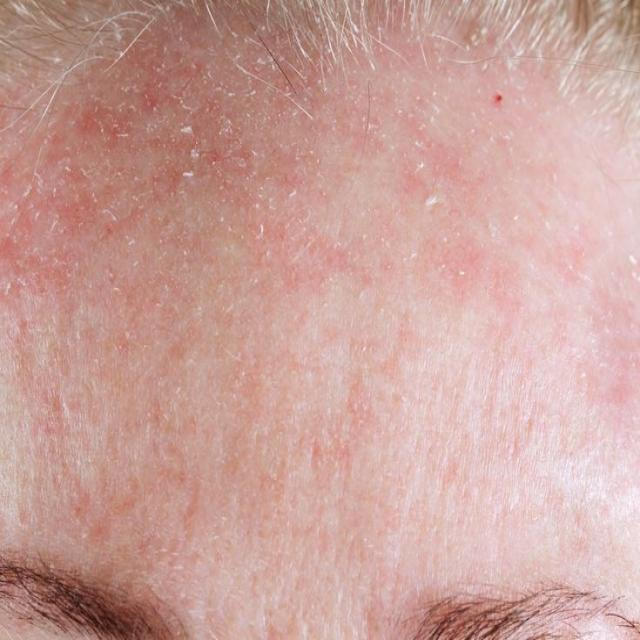Dry-Skin: (324, 140, 384, 280), (163, 88, 247, 179), (442, 194, 524, 277), (85, 327, 169, 396), (216, 244, 304, 305), (26, 396, 65, 478), (108, 237, 172, 279), (37, 219, 71, 297), (77, 123, 132, 166), (16, 108, 59, 151)
